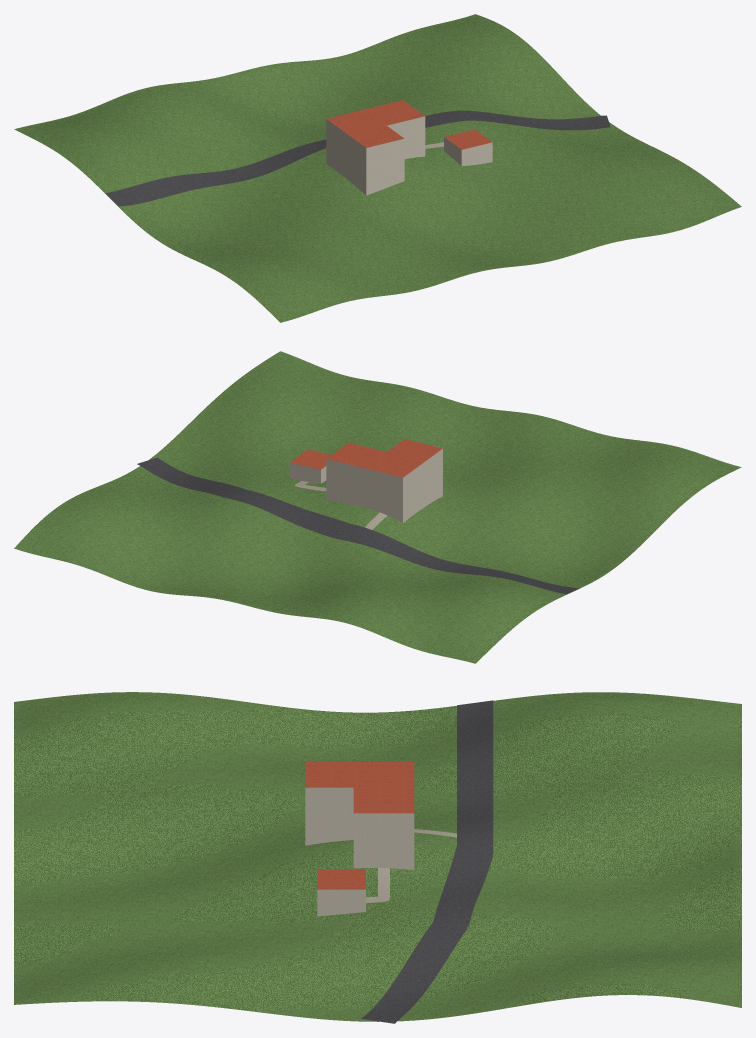
File: town.obj
The picture shows the model from 3 angles, top to bottom: view 1: azimuth 30°, elevation 25°; view 2: azimuth 150°, elevation 25°; view 3: azimuth 270°, elevation 25°; orthographic projection. The views are drawn at different scales.
Visible parts, largest first — view 1: ground, road, wall, roof; view 2: ground, road, wall, roof; view 3: ground, road, wall, roof, path.
Boxes of the visible parts, x1,y1,x2,y2 form: ground: [14, 14, 741, 322]; road: [105, 110, 610, 206]; wall: [326, 116, 492, 195]; roof: [326, 100, 491, 149]; ground: [14, 351, 741, 663]; road: [137, 457, 579, 594]; wall: [290, 449, 442, 522]; roof: [290, 439, 442, 477]; ground: [14, 692, 741, 1021]; road: [361, 700, 493, 1023]; wall: [305, 787, 414, 916]; roof: [305, 762, 414, 889]; path: [366, 829, 456, 903].
Size of the model in its own units: 121 by 15.9 by 120.
